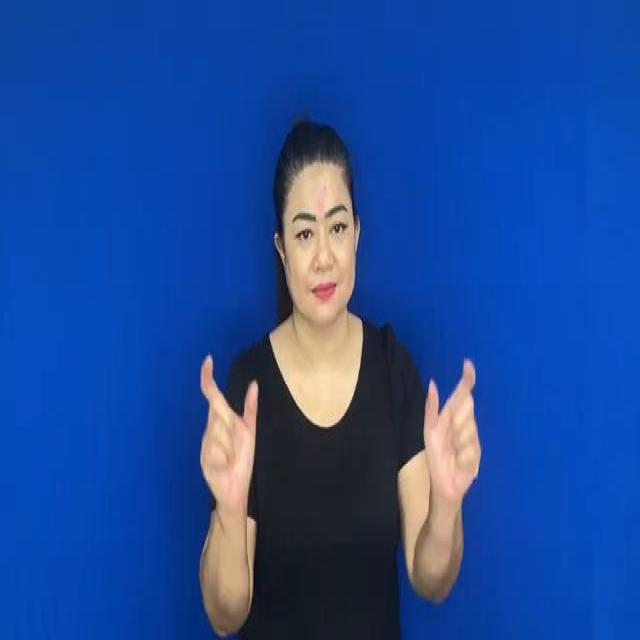crab: (404, 352, 496, 510), (186, 340, 264, 518)
